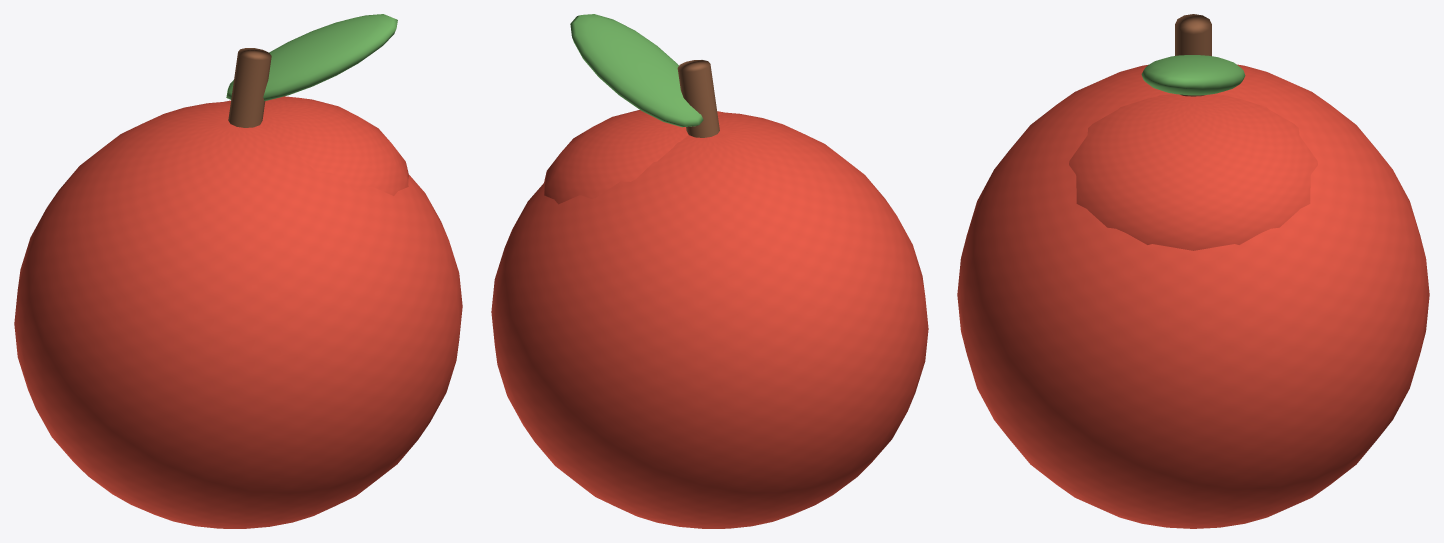
The model's file is APPLE.glb.
The picture shows the model from 3 angles, left to right: view 1: azimuth 30°, elevation 25°; view 2: azimuth 150°, elevation 25°; view 3: azimuth 270°, elevation 25°; orthographic projection. The views are drawn at different scales.
Parts seen in each view (by area): view 1: APPLE; view 2: APPLE; view 3: APPLE.
Part boxes in pixels (<box>): APPLE: <box>14,14,462,528</box>; APPLE: <box>491,14,928,528</box>; APPLE: <box>957,14,1429,528</box>.
Size of the model in its own units: 0.24 by 0.2709 by 0.23.
3 materials, 1 textured.
